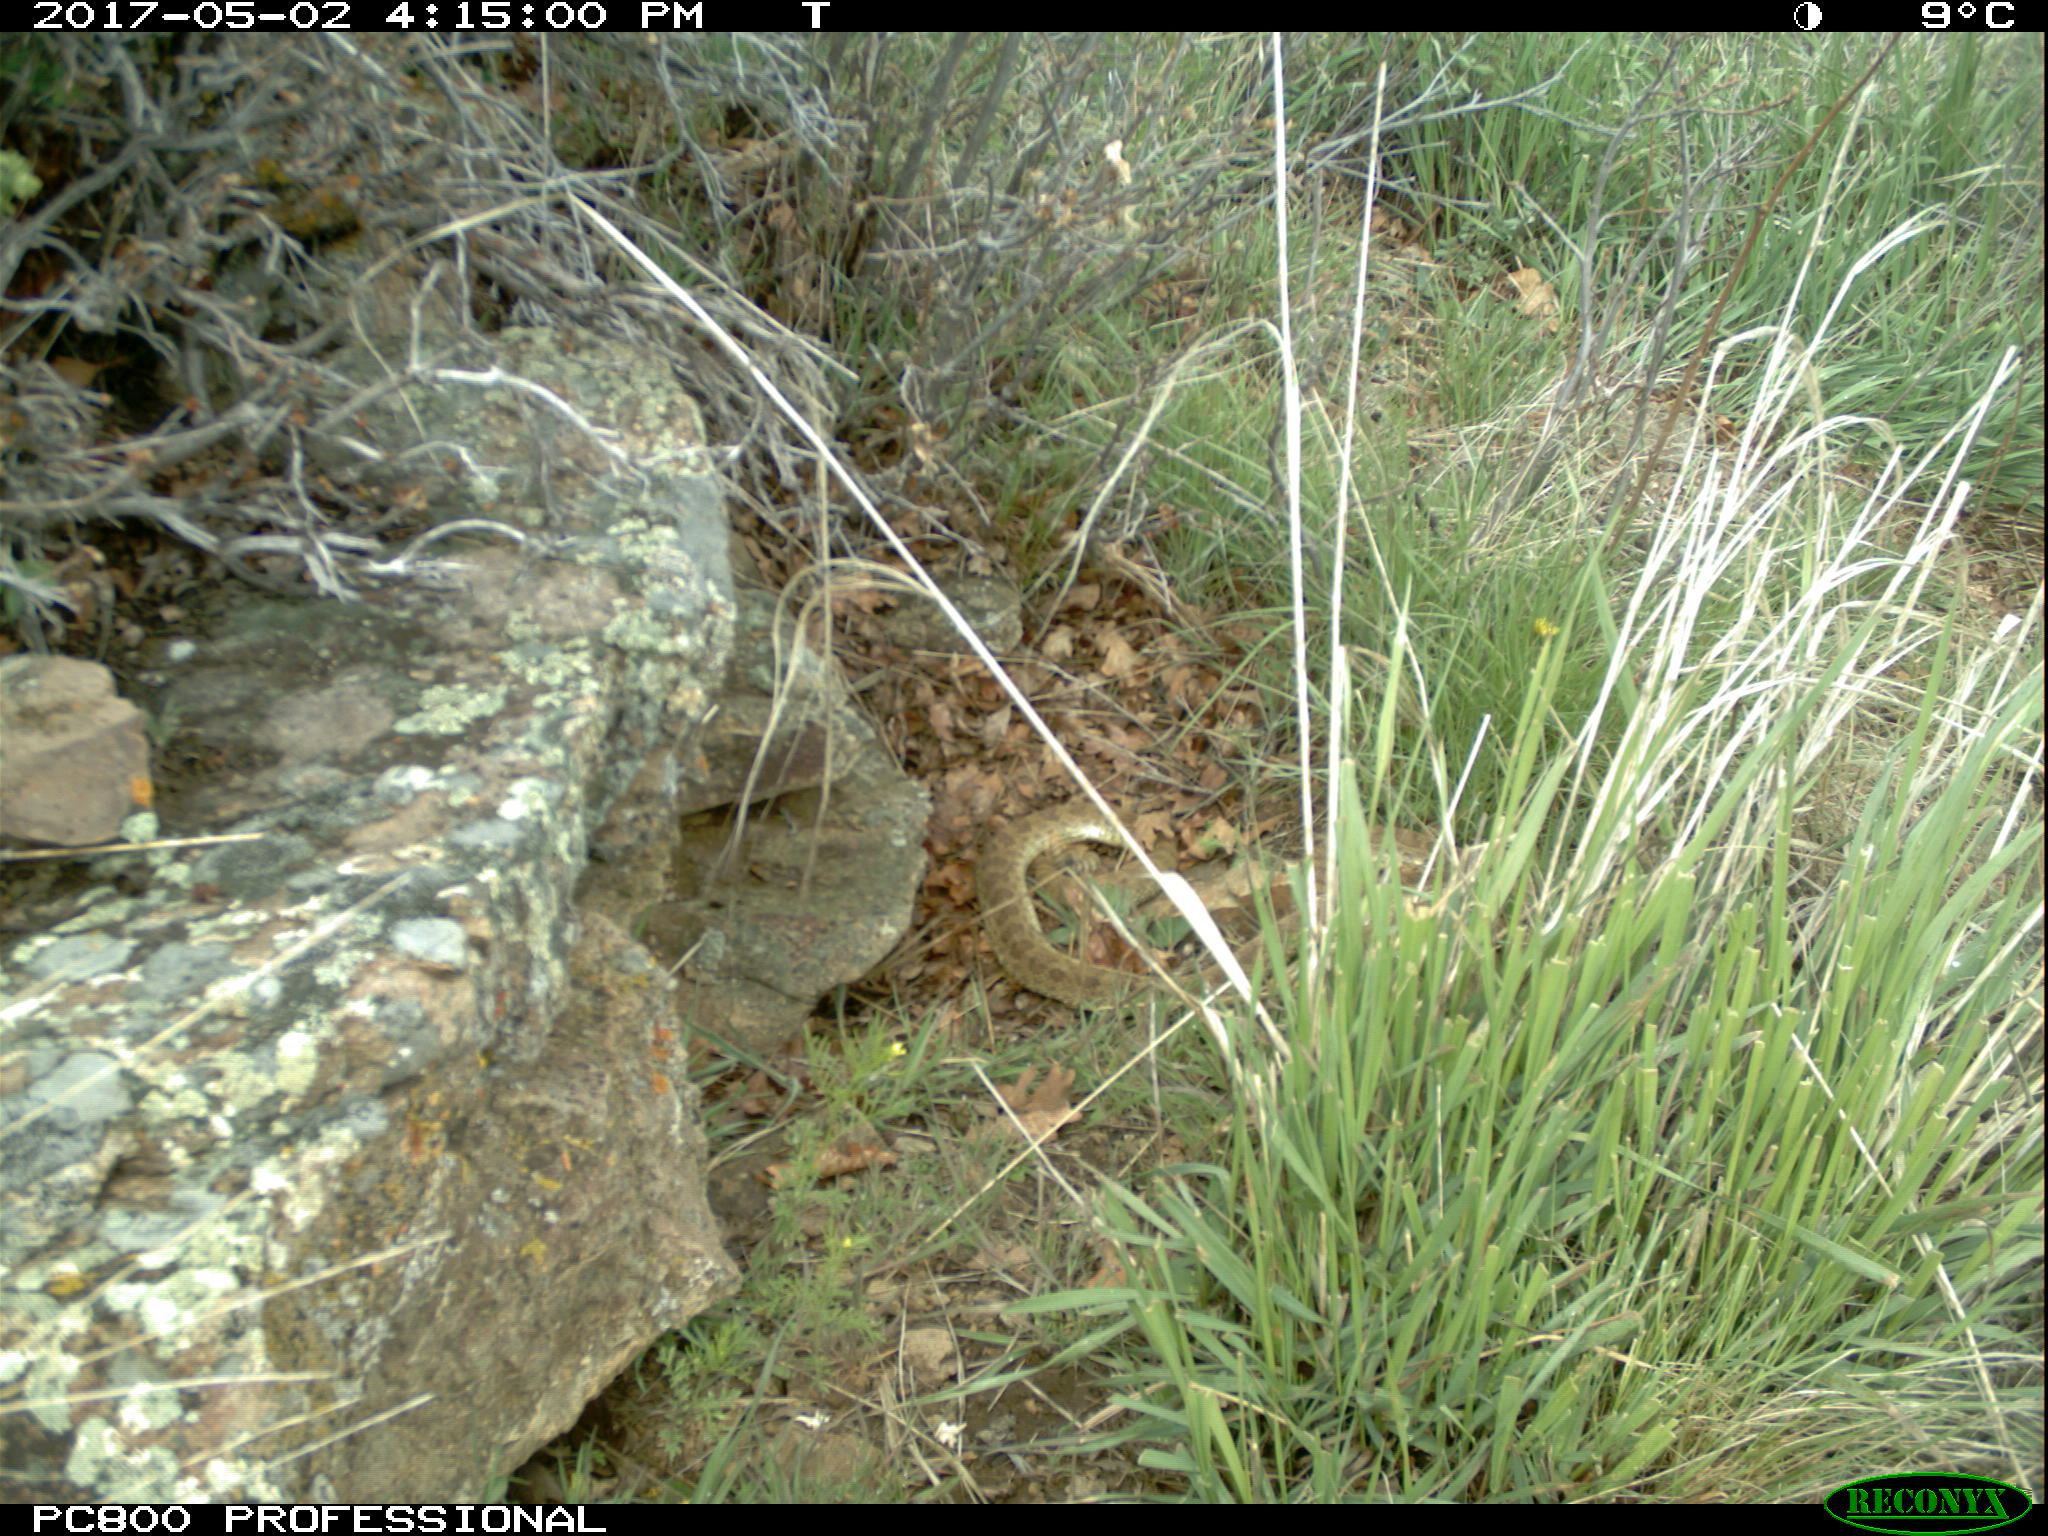snake: (974, 792, 1280, 1020)
